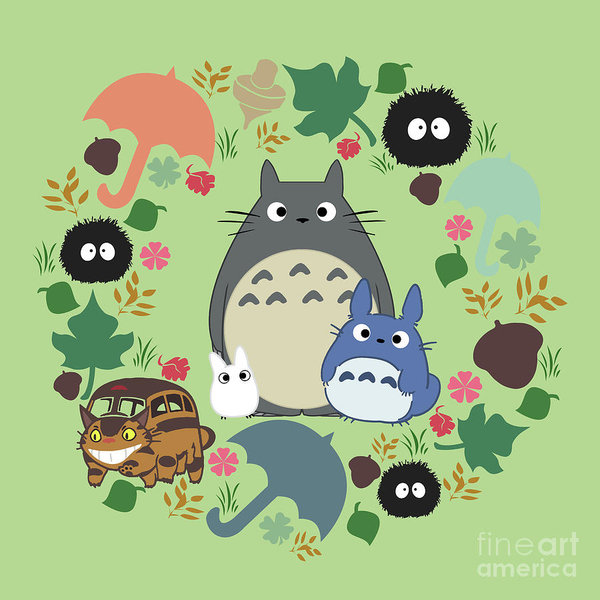Totoro: (203, 154, 400, 423)
